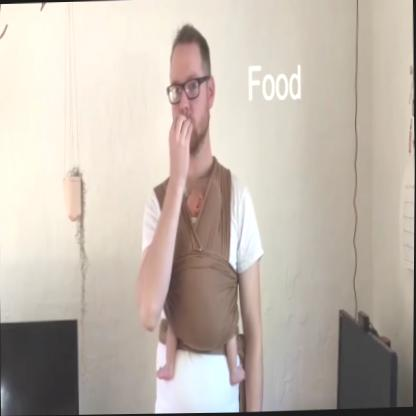Food: (158, 19, 219, 174)
